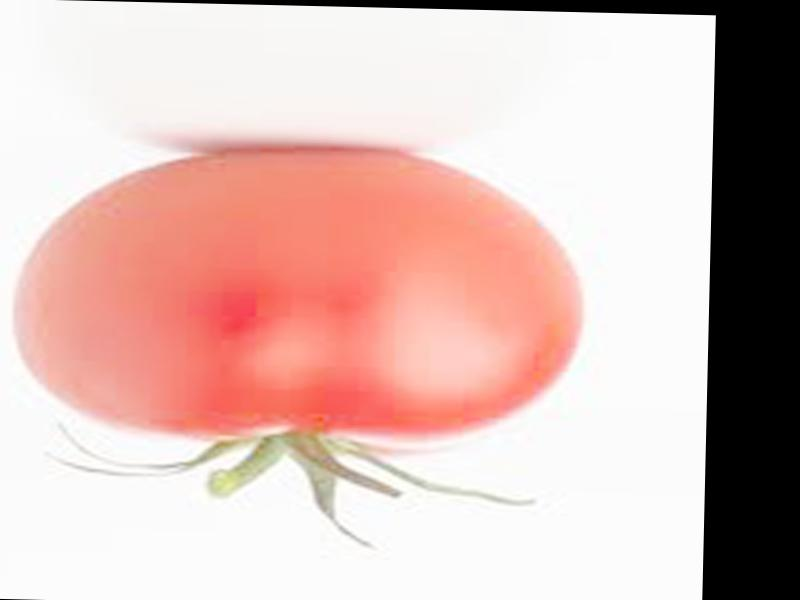Tomato: (15, 142, 586, 449)
